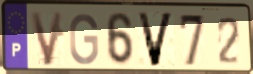2: (216, 16, 242, 65)
6: (105, 11, 136, 68)
7: (178, 12, 207, 67)
G: (68, 12, 100, 67)
V: (135, 10, 176, 69), (28, 10, 65, 68)
